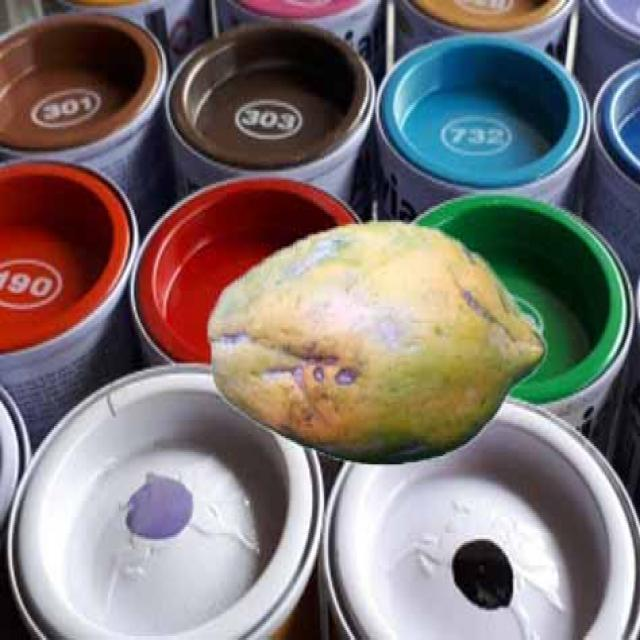Pepaya rippen: (212, 214, 554, 468)
